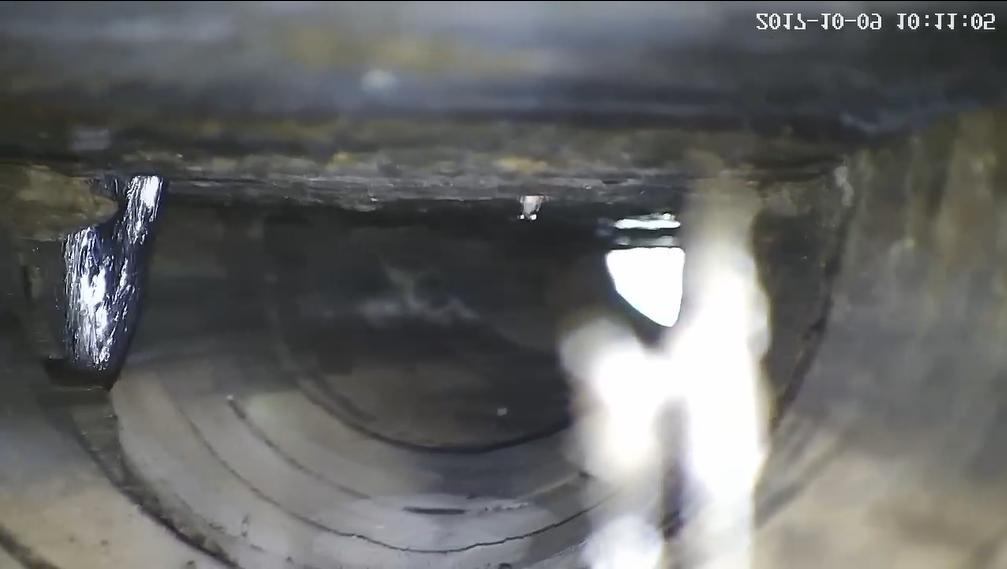SL: (31, 160, 178, 388)
